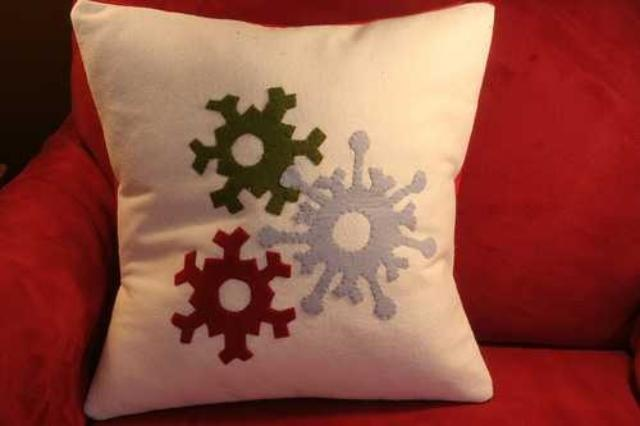pillow: (70, 1, 498, 420)
